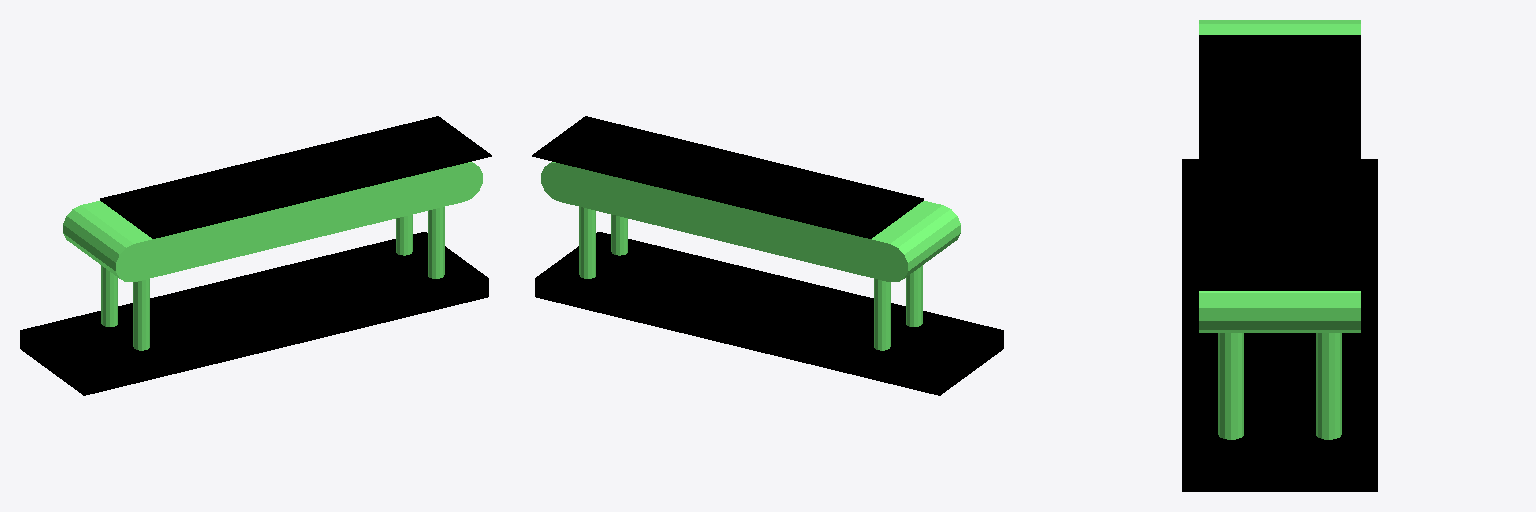
The robot description file, URDF, robot "conveyor_belt":
<?xml version="1.0" encoding="utf-8"?>
<!-- This URDF was automatically created by SolidWorks to URDF Exporter! Originally created by [author] ([email redacted]) 
     Commit Version: 1.6.0-4-g7f85cfe  Build Version: 1.6.7995.38578
     For more information, please see http://wiki.ros.org/sw_urdf_exporter -->
<robot
  name="conveyor_belt">
  <link
    name="belt_base">
    <inertial>
      <origin
        xyz="0.506555924956087 0.576257668395528 0.809187850290248"
        rpy="0 0 0" />
      <mass
        value="16.5" />
      <inertia
        ixx="0.1271875"
        ixy="4.88613779066801E-18"
        ixz="-4.0962603679399E-17"
        iyy="1.7875"
        iyz="-9.93851991445046E-19"
        izz="1.6671875" />
    </inertial>
    <visual>
      <origin
        xyz="0 0 0"
        rpy="0 0 0" />
      <geometry>
        <mesh
          filename="package://conveyor_belt/meshes/belt_base.STL" />
      </geometry>
      <material
        name="">
        <color
          rgba="0 0 0 1" />
      </material>
    </visual>
    <collision>
      <origin
        xyz="0 0 0"
        rpy="0 0 0" />
      <geometry>
        <mesh
          filename="package://conveyor_belt/meshes/belt_base.STL" />
      </geometry>
    </collision>
  </link>
  <link
    name="belt_body">
    <inertial>
      <origin
        xyz="0 0.0440791706940699 1.11022302462516E-16"
        rpy="0 0 0" />
      <mass
        value="25.4688050576424" />
      <inertia
        ixx="0.178224280202433"
        ixy="2.42064928296306E-18"
        ixz="7.03037346221069E-17"
        iyy="2.24920451600626"
        iyz="1.05879118406788E-19"
        izz="2.16108992355413" />
    </inertial>
    <visual>
      <origin
        xyz="0 0 0"
        rpy="0 0 0" />
      <geometry>
        <mesh
          filename="package://conveyor_belt/meshes/belt_body.STL" />
      </geometry>
      <material
        name="">
        <color
          rgba="0.501960784313725 1 0.501960784313725 1" />
      </material>
    </visual>
    <collision>
      <origin
        xyz="0 0 0"
        rpy="0 0 0" />
      <geometry>
        <mesh
          filename="package://conveyor_belt/meshes/belt_body.STL" />
      </geometry>
    </collision>
  </link>
  <joint
    name="belt_body_joint"
    type="fixed">
    <origin
      xyz="0.55656 -0.80919 0.80126"
      rpy="1.5708 0 0" />
    <parent
      link="belt_base" />
    <child
      link="belt_body" />
    <axis
      xyz="0 0 0" />
  </joint>
  <link
    name="belt_moving">
    <inertial>
      <origin
        xyz="0.46 0.00249999999999995 0"
        rpy="0 0 0" />
      <mass
        value="1.15" />
      <inertia
        ixx="0.00599197916666667"
        ixy="5.95299272839392E-20"
        ixz="3.71519944438371E-19"
        iyy="0.0871029166666668"
        iyz="-3.35007904289034E-34"
        izz="0.0811157291666668" />
    </inertial>
    <visual>
      <origin
        xyz="0 0 0"
        rpy="0 0 0" />
      <geometry>
        <mesh
          filename="package://conveyor_belt/meshes/belt_moving.STL" />
      </geometry>
      <material
        name="">
        <color
          rgba="0 0 0 1" />
      </material>
    </visual>
    <collision>
      <origin
        xyz="0 0 0"
        rpy="0 0 0" />
      <geometry>
        <mesh
          filename="package://conveyor_belt/meshes/belt_moving.STL" />
      </geometry>
    </collision>
  </link>
  <joint
    name="belt_moving_joint"
    type="prismatic">
    <origin
      xyz="-0.3981 0.1 0"
      rpy="0 0 0" />
    <parent
      link="belt_body" />
    <child
      link="belt_moving" />
    <axis
      xyz="1 0 0" />
    <limit
      lower="0"
      upper="0"
      effort="0"
      velocity="0" />
  </joint>
</robot>

--- What the picture shows (computed from the rendered views, not written in the file) ---
3 views of the same robot in one strip: view 1: azimuth 30°, elevation 25°; view 2: azimuth 150°, elevation 25°; view 3: azimuth 270°, elevation 25° (orthographic).
Model conveyor_belt with 3 links and 2 joints (1 prismatic, 1 fixed), rooted at belt_base, posed every joint at zero.
Links seen in each view (by area): view 1: belt_base, belt_body, belt_moving; view 2: belt_base, belt_body, belt_moving; view 3: belt_moving, belt_base, belt_body.
Boxes of the visible links, <box> form: belt_base: <box>20,232,488,395</box>; belt_body: <box>63,162,482,350</box>; belt_moving: <box>100,116,491,238</box>; belt_base: <box>535,232,1003,395</box>; belt_body: <box>541,162,960,350</box>; belt_moving: <box>532,116,923,238</box>; belt_moving: <box>1199,35,1360,290</box>; belt_base: <box>1182,159,1377,491</box>; belt_body: <box>1199,20,1360,439</box>.
Size in the robot's own frame: 1.12 by 0.3 by 0.355 metres.
3 mesh visuals loaded from 3 distinct referenced files (3 binary STL).